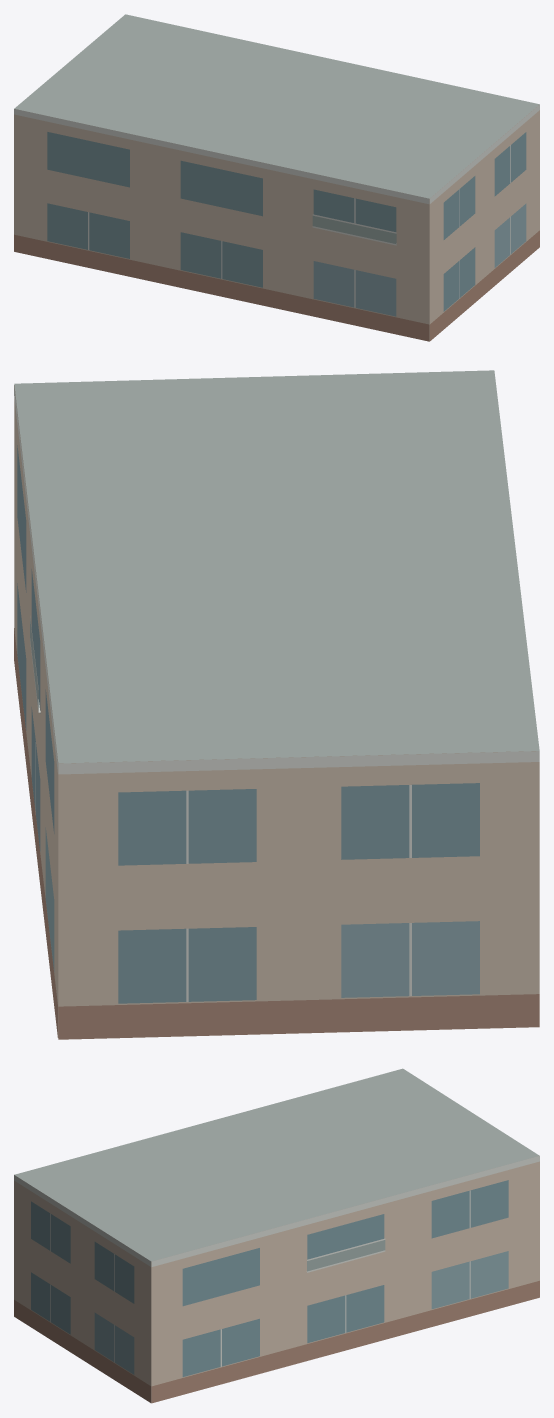
Rendered from survey-upis-32541083.glb.
The picture shows the model from 3 angles, top to bottom: view 1: azimuth 30°, elevation 25°; view 2: azimuth 150°, elevation 25°; view 3: azimuth 270°, elevation 25°; orthographic projection. The views are drawn at different scales.
Parts seen in each view (by area): view 1: survey-upis-32541083.tmp; view 2: survey-upis-32541083.tmp; view 3: survey-upis-32541083.tmp.
Boxes of the visible parts, bbox=[...] form: survey-upis-32541083.tmp: bbox=[14, 14, 539, 341]; survey-upis-32541083.tmp: bbox=[14, 370, 539, 1039]; survey-upis-32541083.tmp: bbox=[14, 1068, 539, 1403].
Bounding box in the file's own units: 17.82 × 6.1 × 20.5.
